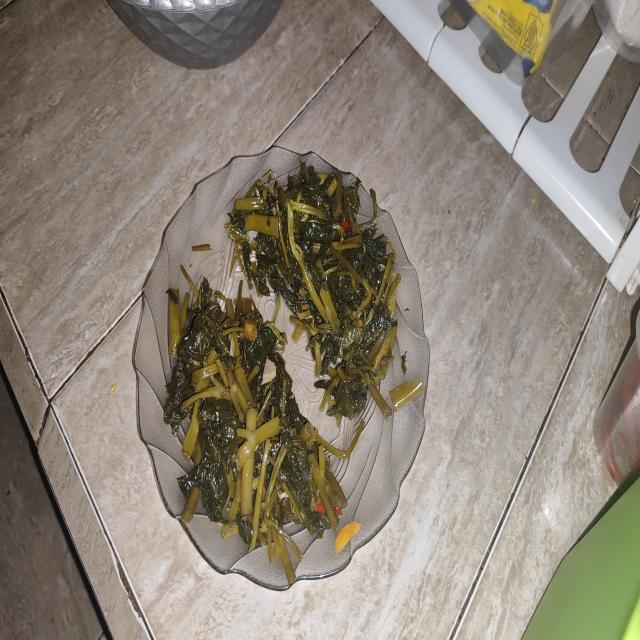tumis_kangkung: (165, 278, 346, 566), (226, 160, 400, 418)
